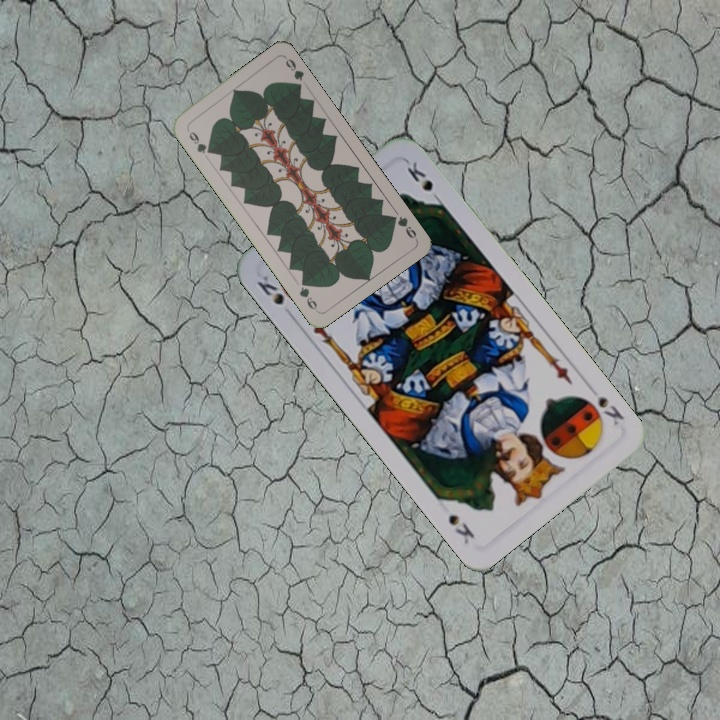G9: (183, 124, 215, 157), (385, 211, 419, 242)
SK: (583, 382, 627, 428), (253, 271, 287, 308)
